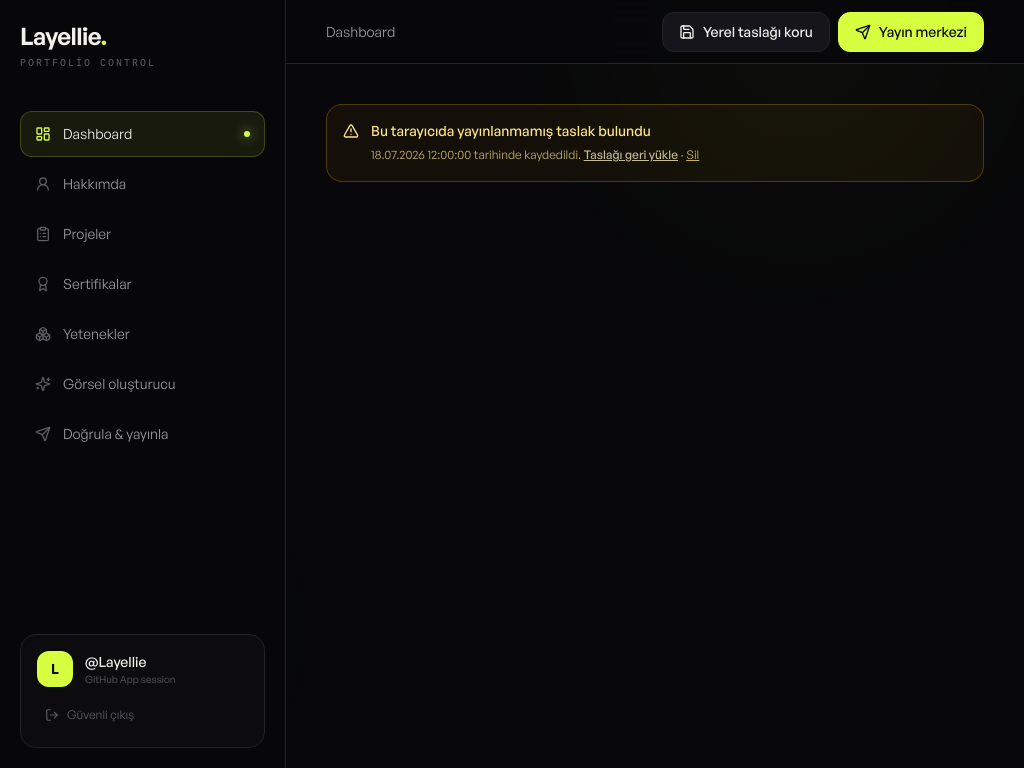
Test: legacy admin draft safety › blocks validation and publish until a legacy draft is reloaded from a safe remote base
The image size is (1024, 768).
Click the button "Taslağı geri yükle": (631, 155) [584,145,678,164]
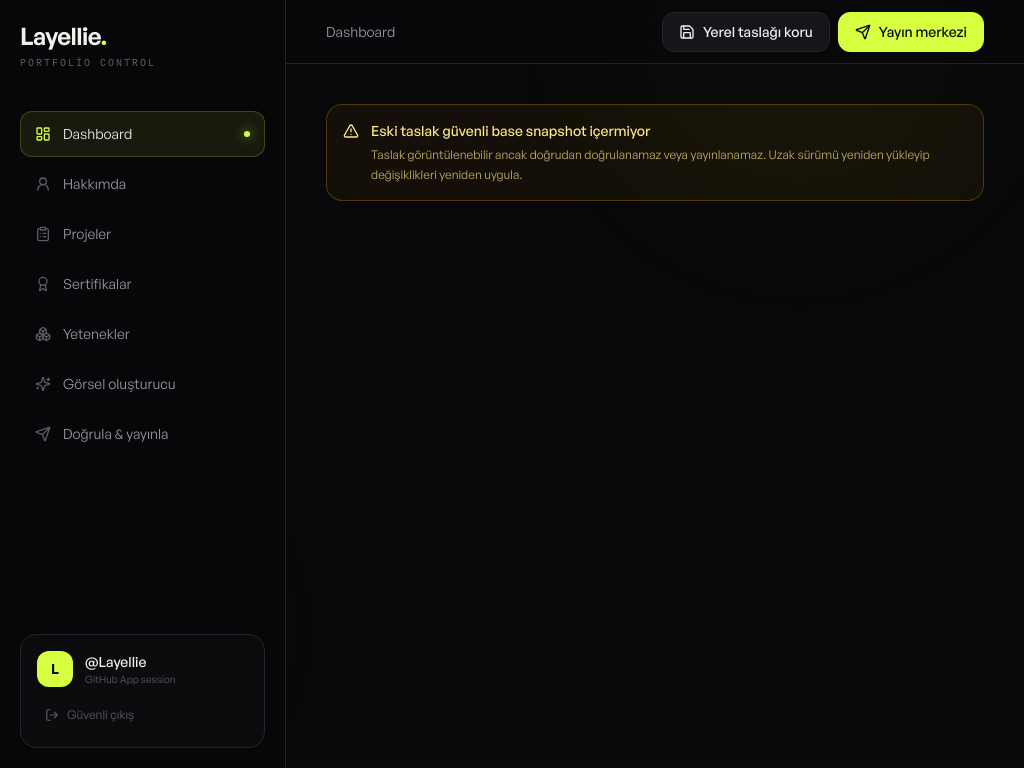
Click the button "Doğrula & yayınla": (142, 434) [20,411,265,457]
(page scrolled)
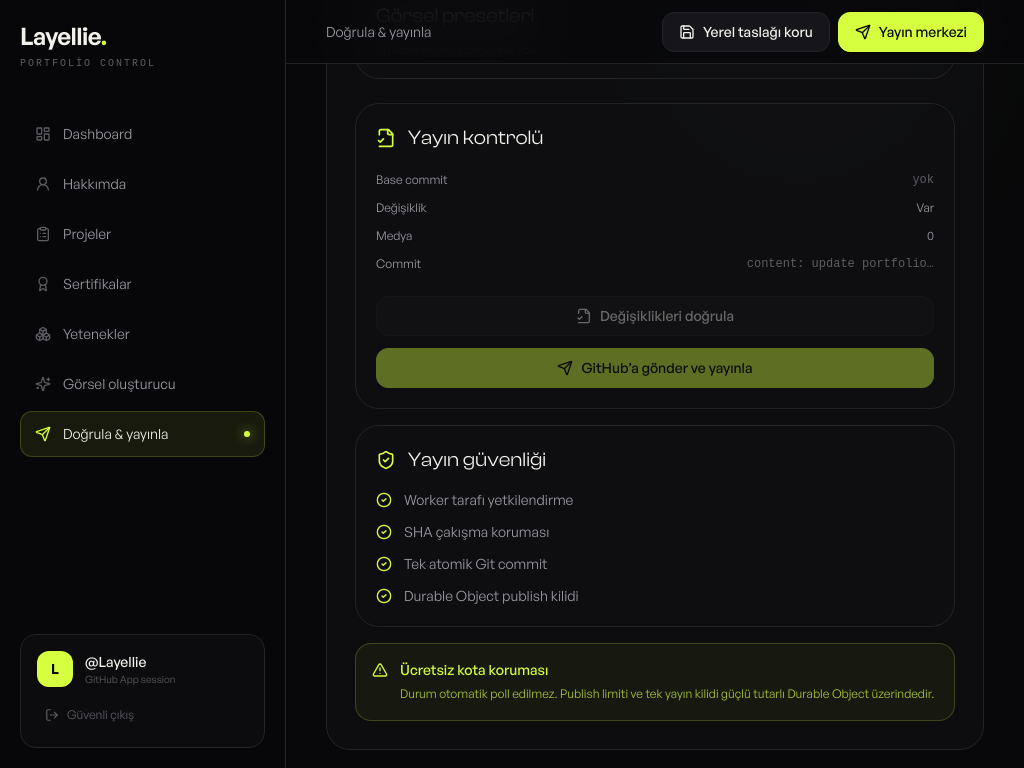
Expected: the button "Değişiklikleri doğrula" is disabled, [376,296,934,336]
Expected: the button "GitHub’a gönder ve yayınla" is disabled, [376,348,934,388]
